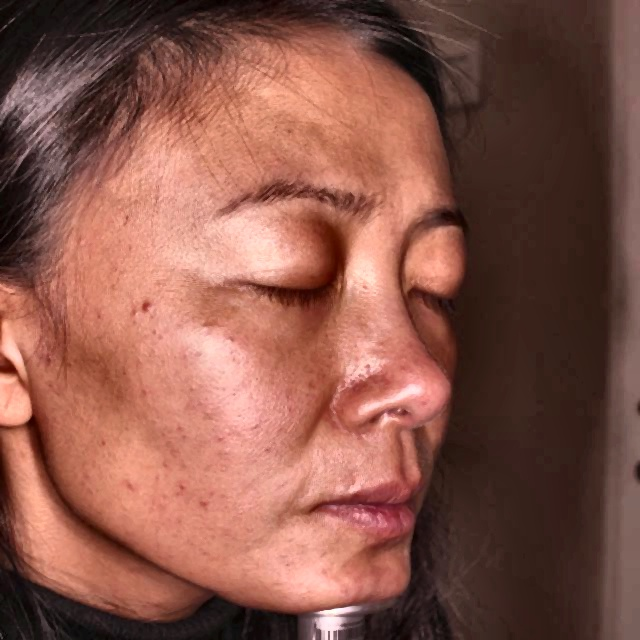comedone: (128, 295, 164, 325)
